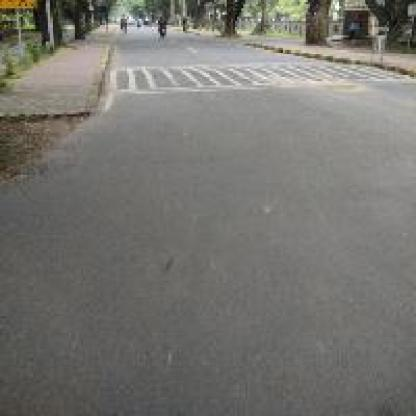Speed Bump: (115, 63, 404, 92)
